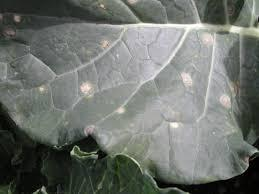Bok-Choy-Diseased: (0, 2, 255, 156)
